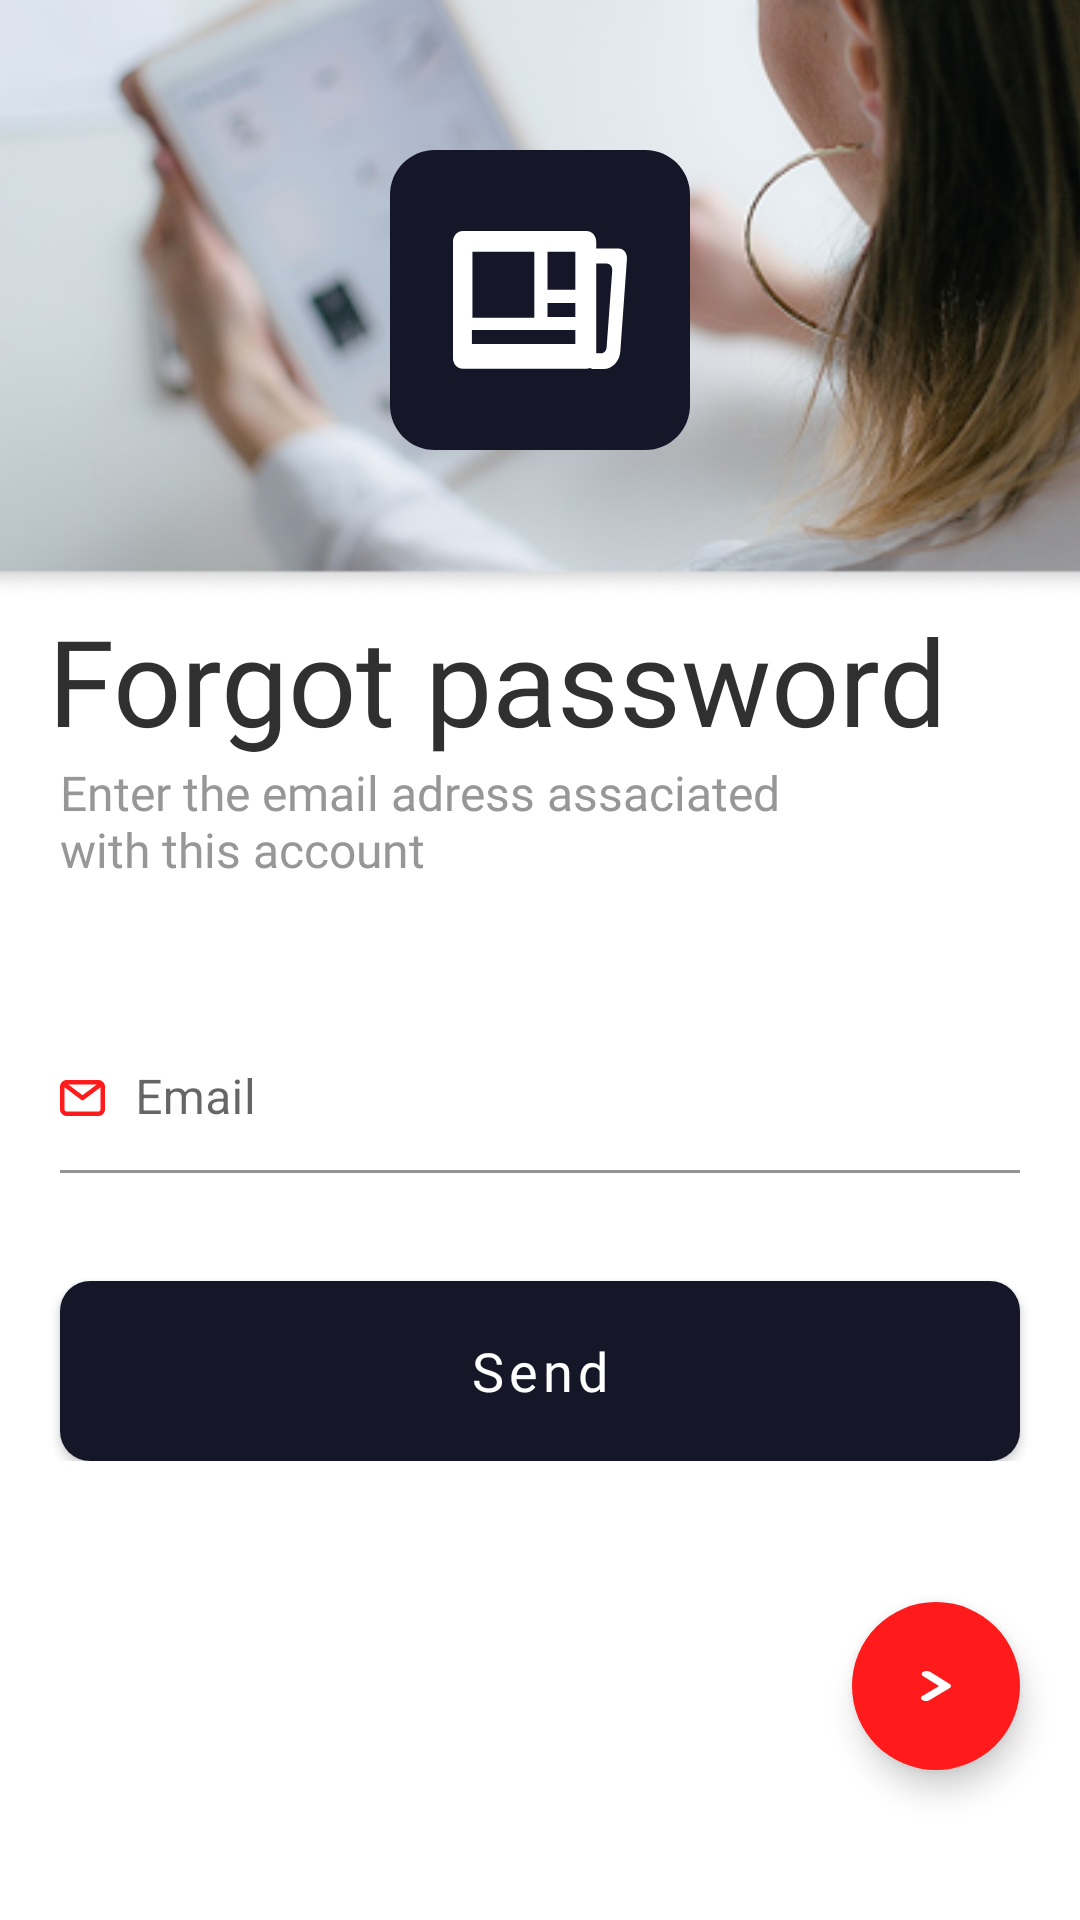

Named icons in this screenshot (1080 x 1920) and their centers, [x,y]:
contiune: [936,1686]
